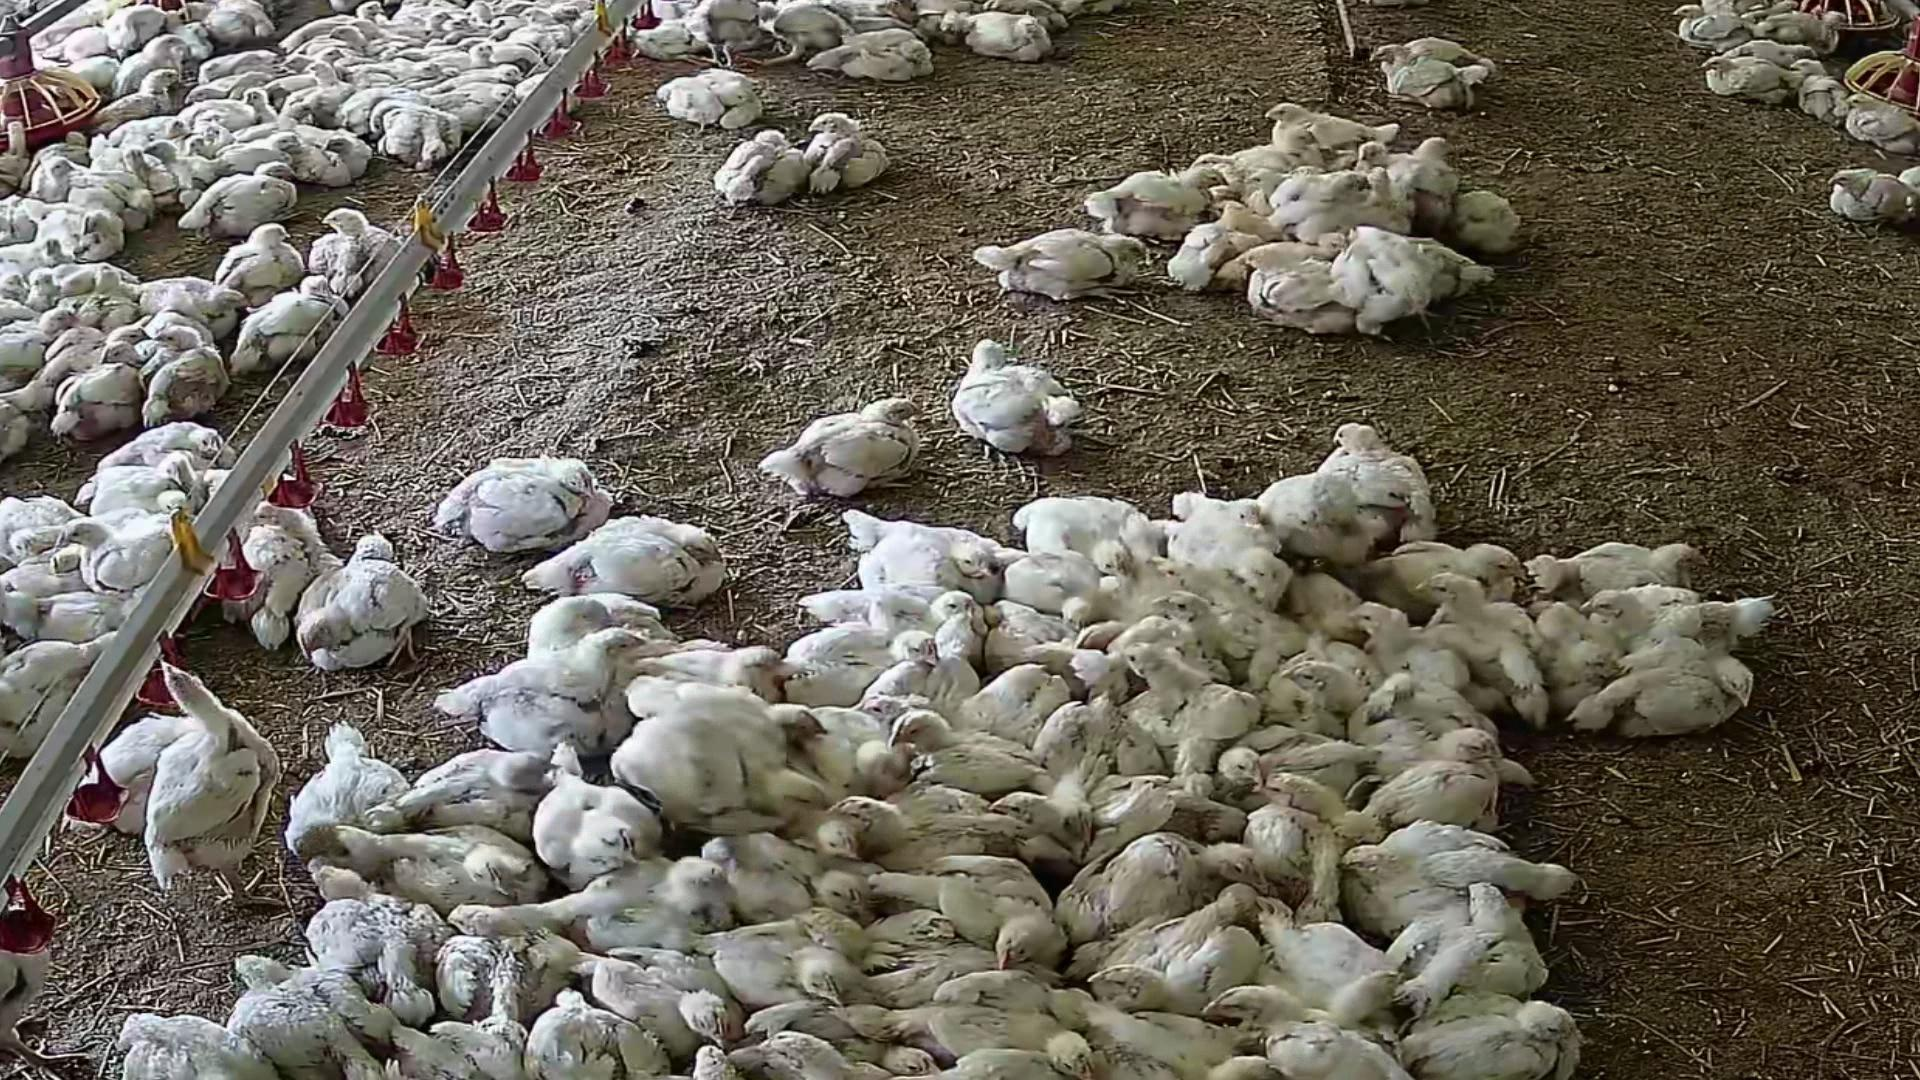poussin: (102, 650, 276, 909), (429, 429, 622, 575), (1333, 810, 1551, 931), (291, 530, 440, 687), (224, 947, 398, 1080), (971, 203, 1158, 324), (1035, 975, 1249, 1080), (460, 858, 716, 945), (460, 632, 634, 758), (1393, 975, 1600, 1080), (882, 848, 1068, 963), (301, 856, 440, 1007), (311, 823, 546, 913), (1071, 812, 1265, 920), (1399, 884, 1571, 1001), (1276, 659, 1502, 746), (1208, 984, 1410, 1080), (1425, 572, 1552, 725), (530, 506, 723, 607), (1535, 524, 1720, 628), (935, 339, 1093, 459), (774, 385, 932, 502), (582, 934, 749, 1043), (1578, 640, 1760, 738), (1244, 889, 1390, 1006), (1242, 774, 1360, 911), (527, 762, 665, 878), (1124, 644, 1247, 770), (3, 626, 133, 746), (284, 704, 397, 840), (227, 487, 331, 630), (845, 505, 1004, 596), (720, 844, 870, 939), (989, 779, 1156, 864), (1313, 422, 1440, 533), (833, 787, 1010, 866), (1225, 251, 1361, 353), (781, 621, 952, 702), (368, 760, 550, 833), (1031, 686, 1116, 843), (698, 918, 858, 1000), (1262, 460, 1382, 570), (105, 993, 255, 1080), (907, 1007, 1085, 1080), (894, 711, 1039, 798), (1079, 160, 1217, 249), (1364, 530, 1523, 608), (59, 512, 199, 600), (808, 574, 975, 647), (993, 530, 1117, 629), (530, 986, 659, 1080), (1091, 926, 1241, 1006), (1348, 593, 1458, 698), (225, 276, 345, 371), (1590, 583, 1762, 649), (1026, 488, 1145, 583), (700, 115, 810, 218), (1211, 732, 1353, 810), (642, 53, 771, 138), (107, 405, 244, 484), (433, 919, 527, 1033), (1345, 231, 1466, 319), (1361, 33, 1491, 113), (299, 202, 411, 294), (534, 592, 684, 661), (0, 562, 123, 642), (1349, 713, 1498, 778), (142, 322, 241, 418), (645, 640, 796, 702), (798, 105, 891, 203), (206, 225, 320, 305), (822, 20, 938, 95), (1158, 479, 1265, 559), (3, 324, 107, 406), (1164, 737, 1259, 827), (402, 1017, 531, 1080), (1179, 194, 1280, 273), (1261, 96, 1394, 156), (727, 1034, 891, 1080), (1448, 186, 1543, 264), (1262, 164, 1367, 233), (0, 485, 90, 566), (193, 169, 306, 231), (132, 269, 240, 334), (756, 0, 869, 61), (1836, 80, 1920, 161), (79, 356, 167, 433), (1826, 157, 1916, 232), (1340, 141, 1458, 198), (47, 154, 148, 218), (1164, 554, 1284, 607), (88, 458, 200, 513), (284, 123, 376, 189), (364, 99, 451, 169), (76, 67, 183, 124), (36, 199, 133, 261), (187, 124, 305, 173), (688, 0, 766, 73), (960, 5, 1047, 70), (15, 261, 140, 306), (1743, 3, 1850, 54), (90, 138, 178, 200), (1696, 54, 1793, 105), (1203, 140, 1298, 193), (1233, 231, 1341, 277), (0, 306, 82, 365), (430, 80, 513, 136), (190, 0, 281, 50), (1783, 54, 1849, 123), (116, 36, 190, 96), (293, 0, 397, 41), (1668, 0, 1750, 51), (1143, 583, 1221, 636), (295, 59, 355, 127), (628, 13, 704, 63), (189, 69, 278, 104), (105, 0, 167, 50), (158, 4, 215, 58), (1733, 34, 1820, 69), (328, 26, 415, 55), (444, 65, 522, 92), (104, 315, 154, 356), (348, 17, 414, 44), (388, 55, 448, 80), (469, 42, 497, 65)
